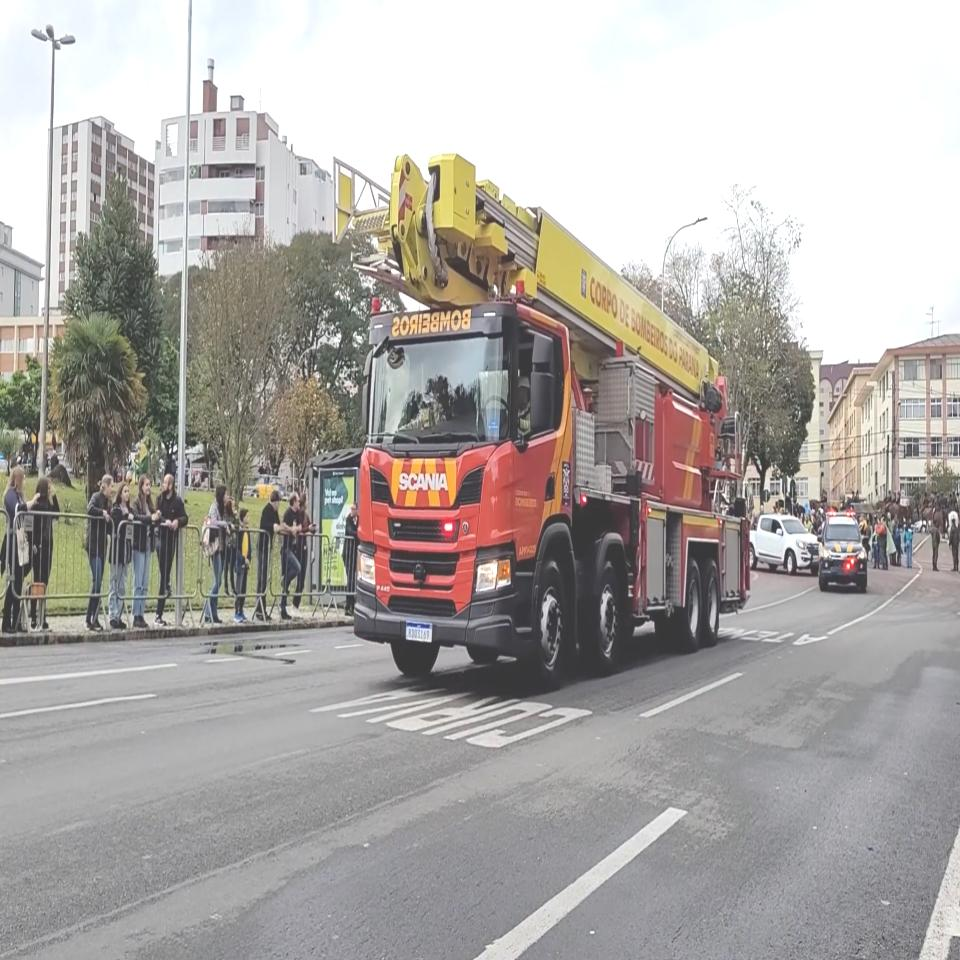bombeiro: (330, 150, 752, 687)
